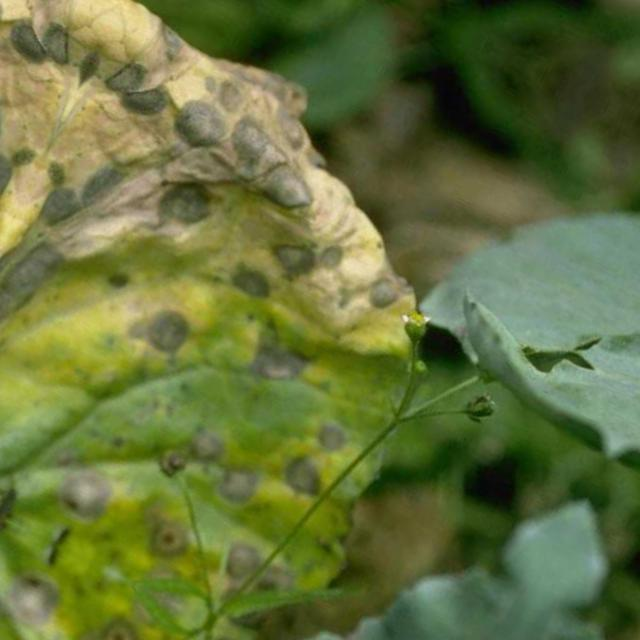Tomato leaf bacterial spot: (0, 0, 572, 640)
